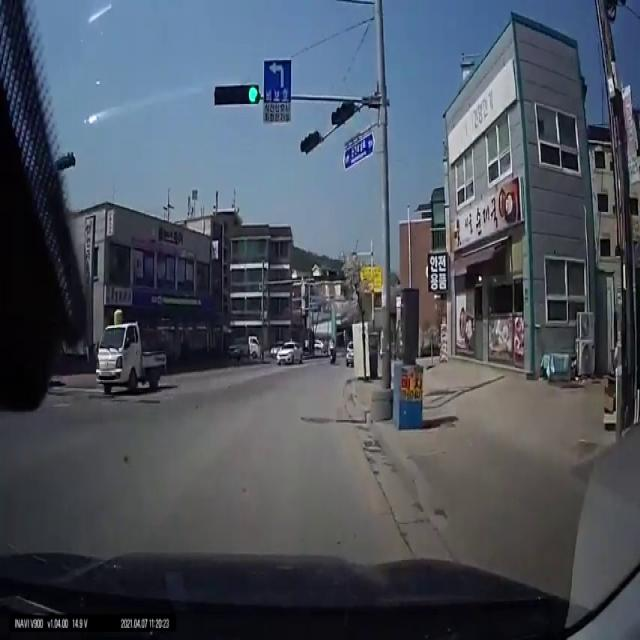Pothole: (304, 415, 335, 428)
